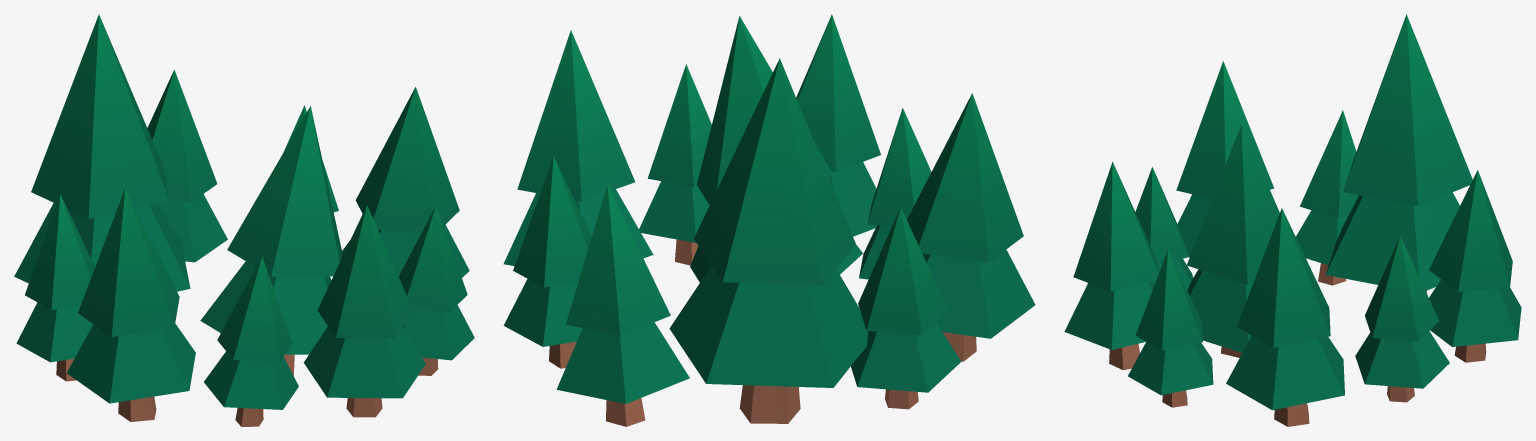
File: d_kaykit_bosquet.glb
3 renders of one model, left to right at view 1: azimuth 30°, elevation 25°; view 2: azimuth 150°, elevation 25°; view 3: azimuth 270°, elevation 25°, orthographic. The views are drawn at different scales.
Visible parts, largest first — view 1: d_kaykit_bosquet; view 2: d_kaykit_bosquet; view 3: d_kaykit_bosquet.
Part boxes in pixels (<box>): d_kaykit_bosquet: <box>14,14,474,426</box>; d_kaykit_bosquet: <box>503,14,1035,426</box>; d_kaykit_bosquet: <box>1064,14,1521,426</box>.
Bounding box in the file's own units: 1.75 × 1.3 × 1.81.
Materials: 1 (1 with a texture image).
